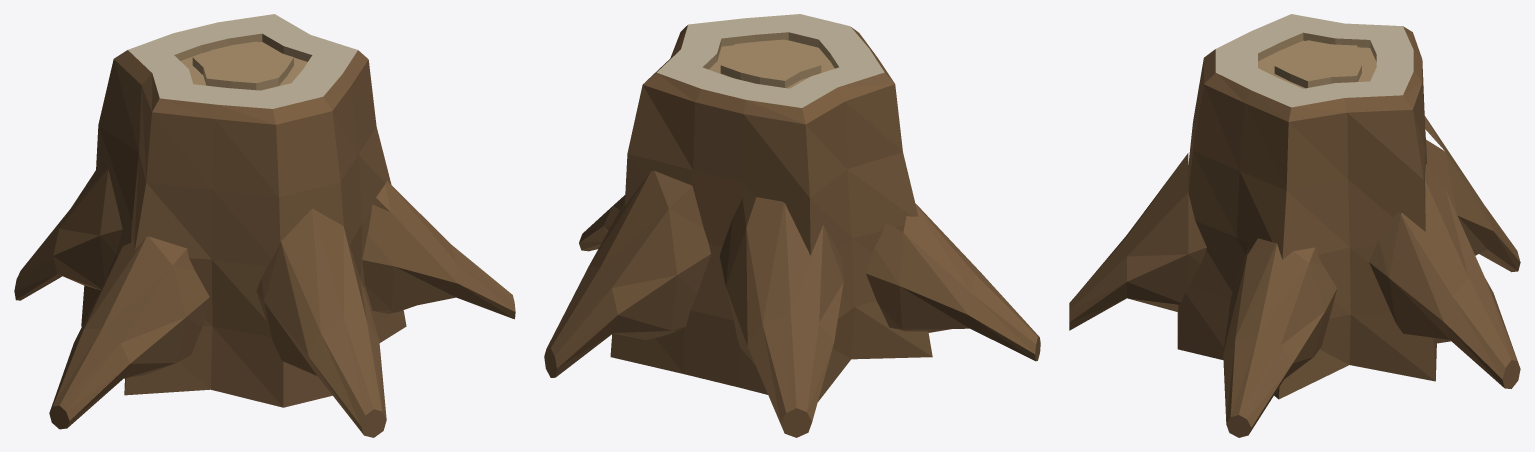
Rendered from tree-stump-ec3f48.glb.
3 renders of one model, left to right at view 1: azimuth 30°, elevation 25°; view 2: azimuth 150°, elevation 25°; view 3: azimuth 270°, elevation 25°, orthographic. The views are drawn at different scales.
Parts seen in each view (by area): view 1: stump-mesh; view 2: stump-mesh; view 3: stump-mesh.
Part boxes in pixels (x1,y1,x2,y2): stump-mesh: [14, 14, 515, 437]; stump-mesh: [544, 14, 1040, 437]; stump-mesh: [1069, 14, 1520, 437].
Size of the model in its own units: 0.8206 by 0.48 by 0.7209.
